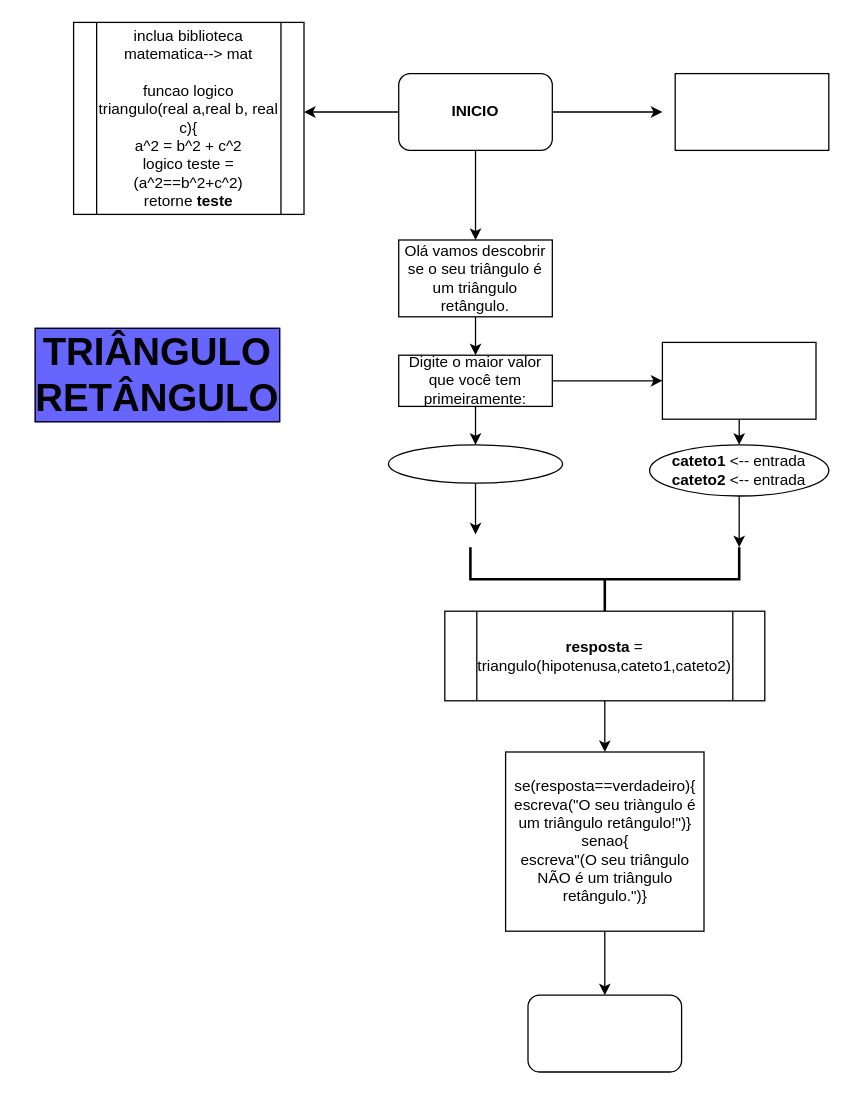
The diagram is 851 pixels wide and 1094 high, and some of its shapes have lost their labels. Here are the shapes that lost their labels. From the top down, the centre of each, then its label:
At (x=751, y=111): "real hipotenusa real cateto1 real cateto2 logico resposta".
At (x=738, y=380): "Agora digite os outros dois valores:".
At (x=475, y=463): "hipotenusa <-- entrada".
At (x=604, y=1033): "FIM".
